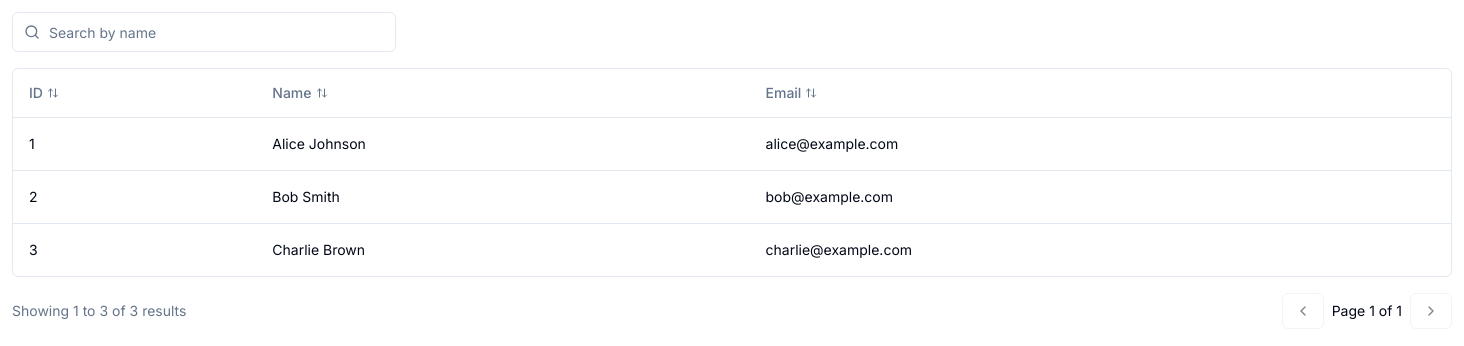
Test: DataTable › filters data based on search input
Type "Alice" into the field with placeholder "Search by name" at {"x": 204, "y": 32}, box [12, 12, 396, 52]
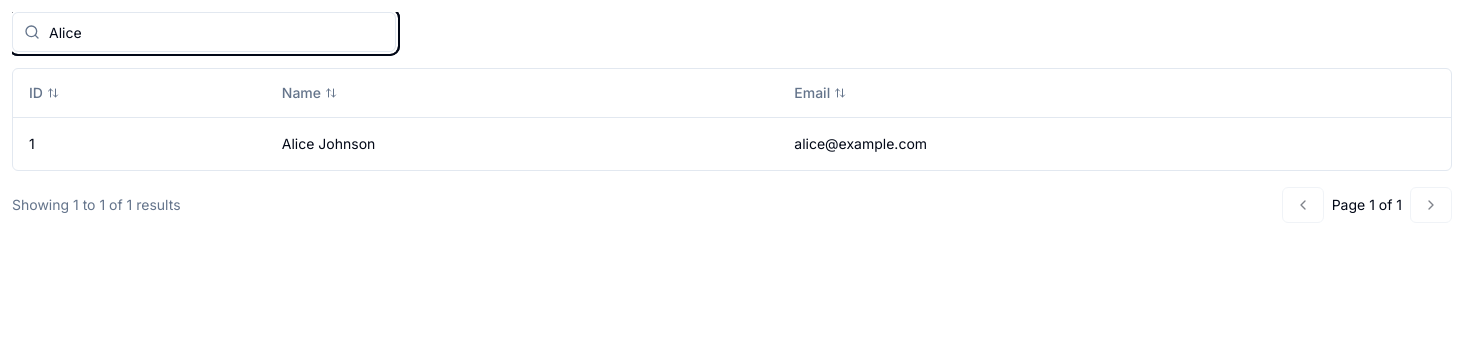
Expected: the text "Alice Johnson" is shown, [266, 117, 778, 170]
Result: the text "Bob Smith" is gone
Result: the text "Charlie Brown" is gone
